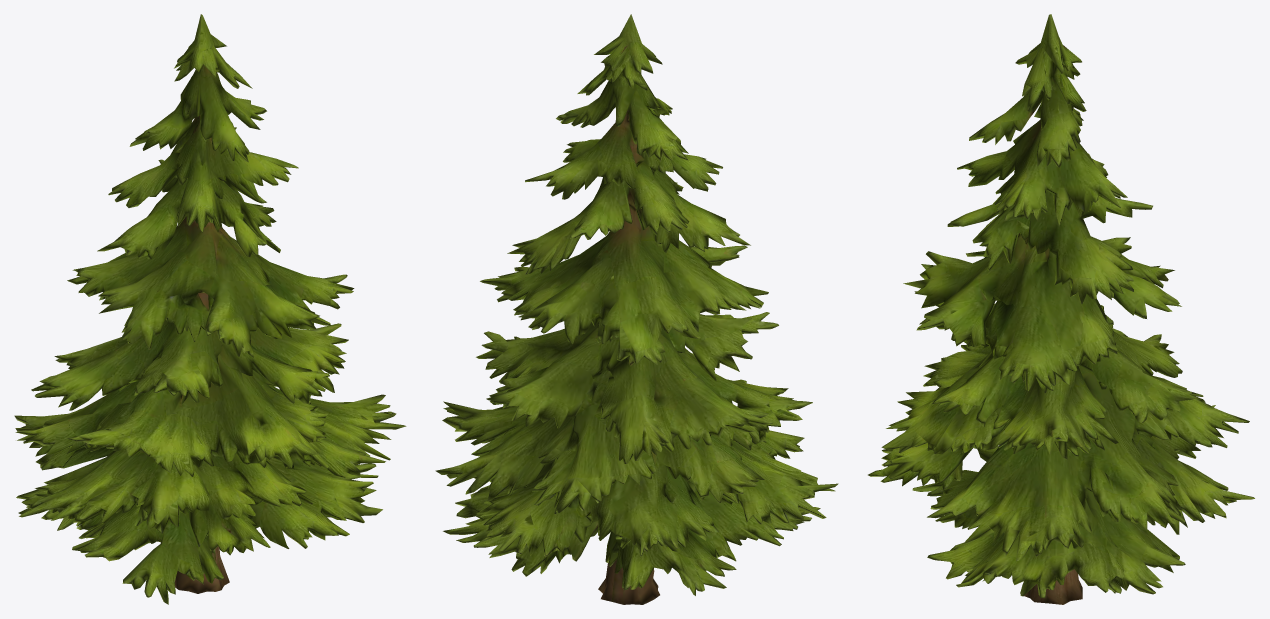
Rendered from islandPine.glb.
3 renders of one model, left to right at view 1: azimuth 30°, elevation 25°; view 2: azimuth 150°, elevation 25°; view 3: azimuth 270°, elevation 25°, orthographic.
Size of the model in its own units: 1.32 by 1.9 by 1.15.
Materials: 1 (1 with a texture image).
